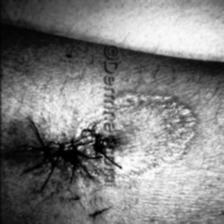Unclassified: (1, 119, 100, 195), (118, 94, 188, 188)
